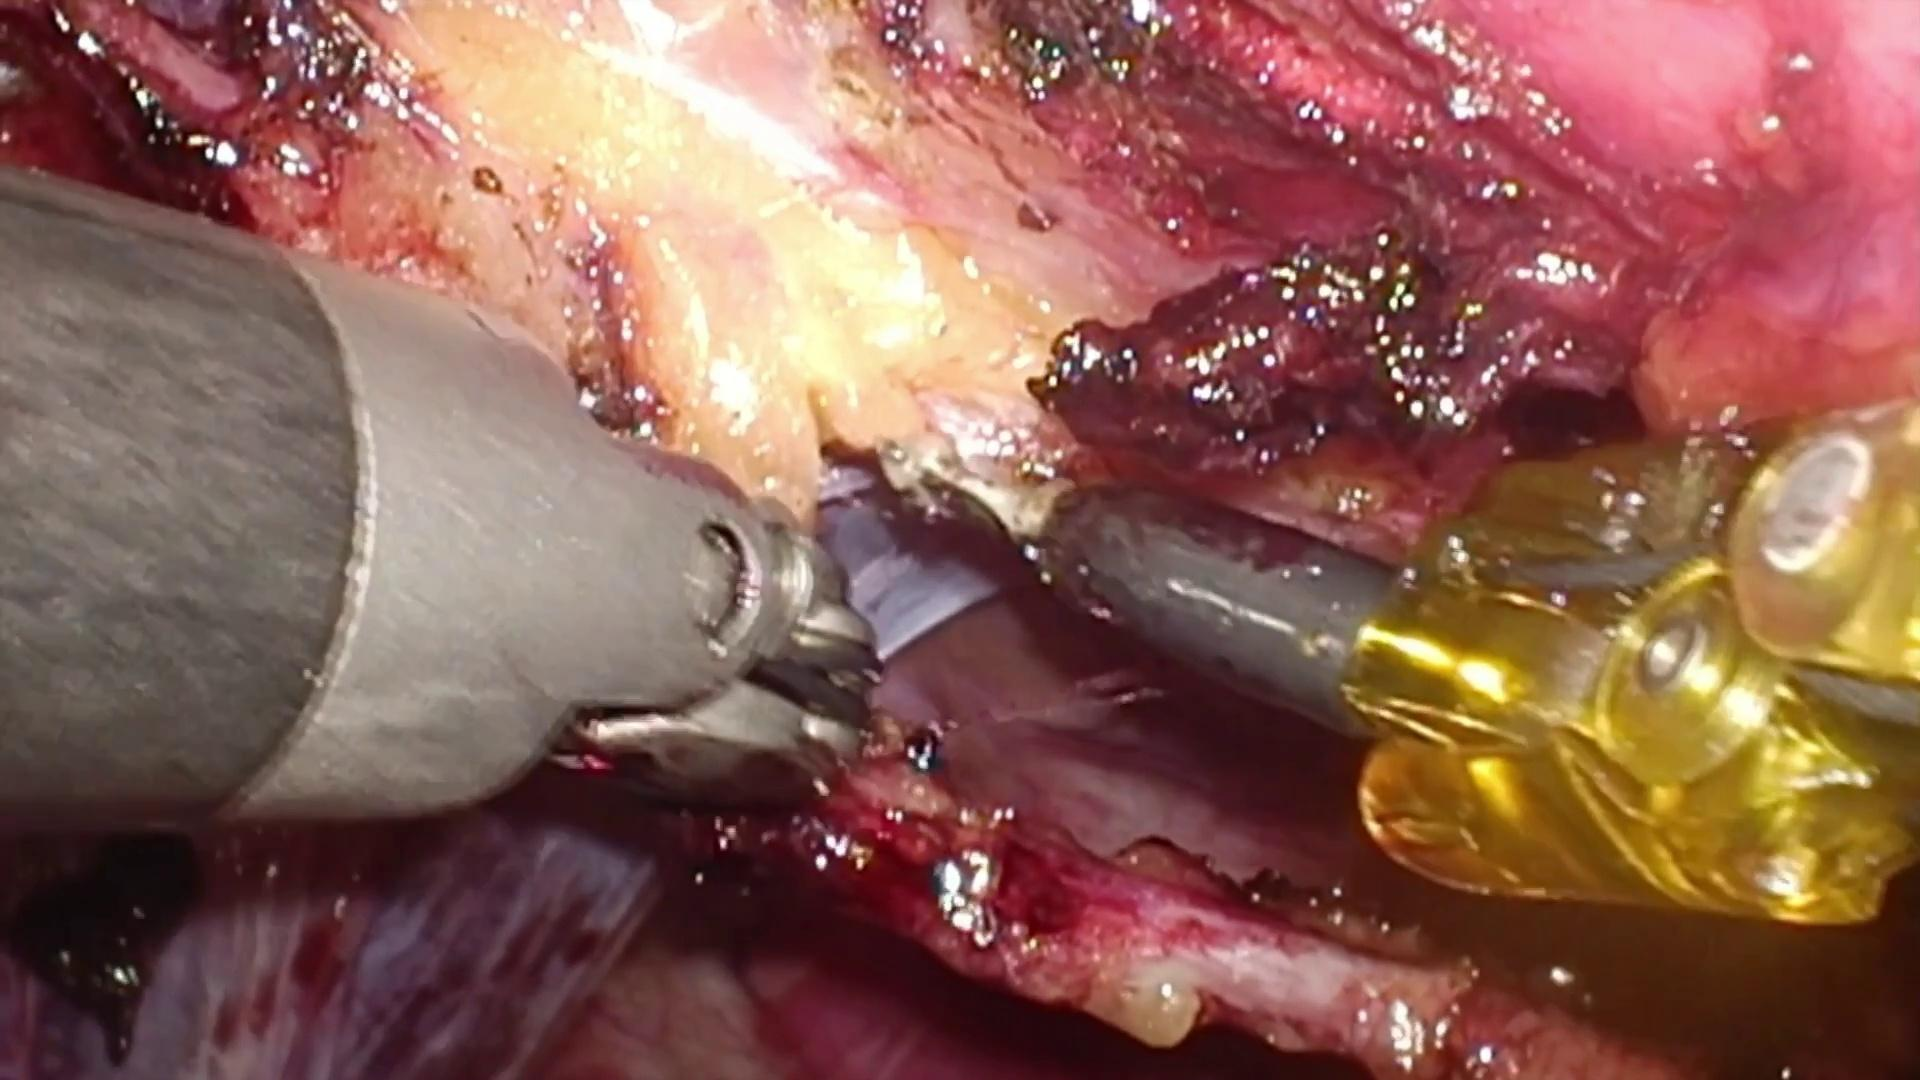Cautery_Spatula: (886, 422, 1435, 785)
